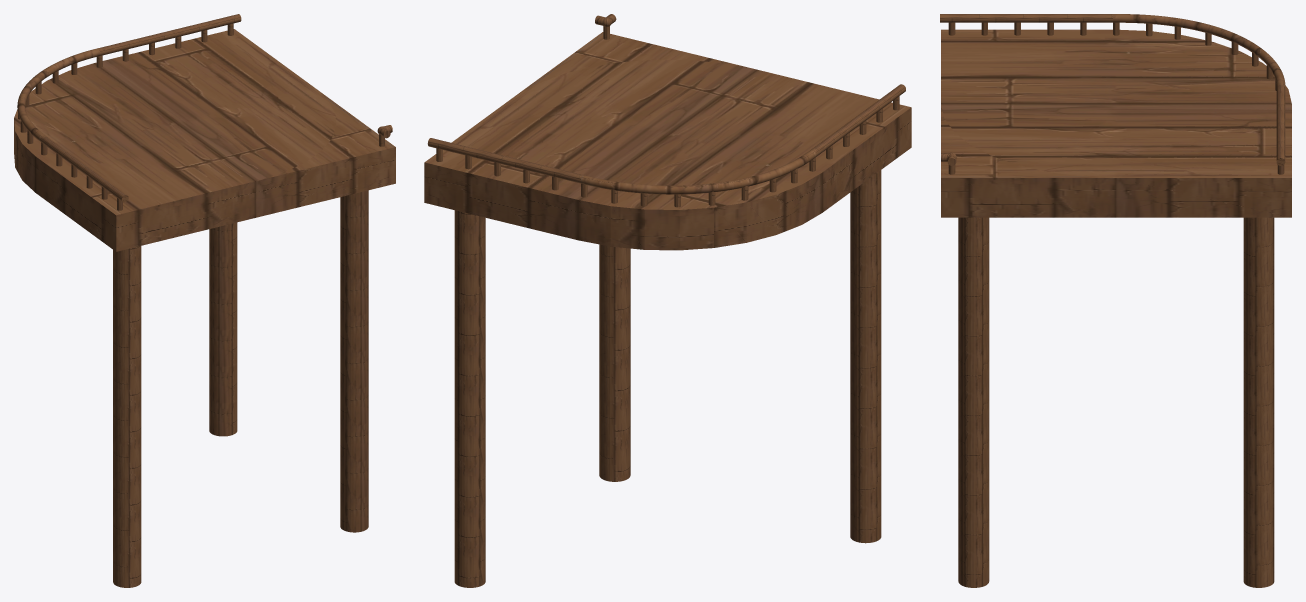
The model's file is corner16.fbx.
3 views of the same model, side by side, from view 1: azimuth 30°, elevation 25°; view 2: azimuth 150°, elevation 25°; view 3: azimuth 270°, elevation 25° (orthographic). The views are drawn at different scales.
Parts seen in each view (by area): view 1: pillar.000, ramp3.001, ramp2, ramp3.000; view 2: pillar.000, ramp2, ramp3.001, ramp3.000; view 3: pillar.000, ramp2, ramp3.000, ramp3.001.
Boxes of the visible parts, x1=… form: pillar.000: x1=14, y1=23, x2=395, y2=587; ramp3.001: x1=99, y1=14, x2=241, y2=55; ramp2: x1=17, y1=48, x2=101, y2=141; ramp3.000: x1=40, y1=136, x2=128, y2=202; pillar.000: x1=424, y1=14, x2=911, y2=587; ramp2: x1=580, y1=148, x2=816, y2=194; ramp3.001: x1=427, y1=138, x2=586, y2=183; ramp3.000: x1=813, y1=84, x2=905, y2=156; pillar.000: x1=941, y1=22, x2=1291, y2=587; ramp2: x1=1113, y1=14, x2=1285, y2=87; ramp3.000: x1=940, y1=14, x2=1116, y2=22; ramp3.001: x1=1276, y1=83, x2=1285, y2=165.
Bounding box in the file's own units: 1600 × 2202 × 1604.
